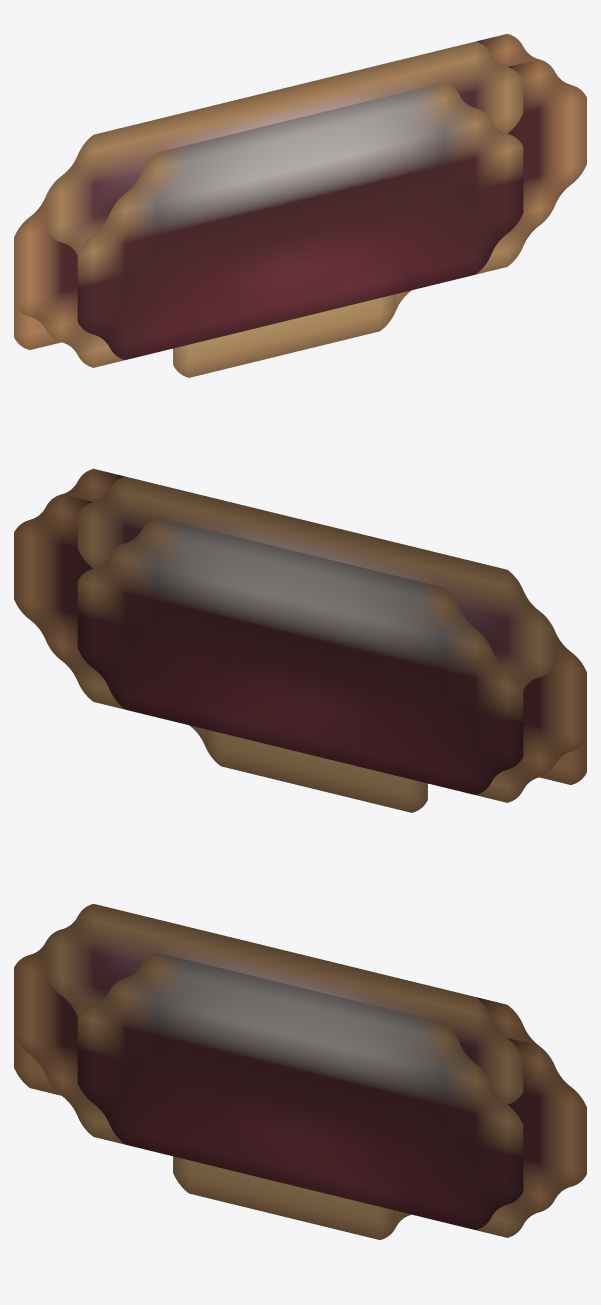
The model's file is Human_Mouths.fbx.
3 views of the same model, one above another, from view 1: azimuth 30°, elevation 25°; view 2: azimuth 150°, elevation 25°; view 3: azimuth 330°, elevation 25° (orthographic).
Parts seen in each view (by area): view 1: Mouth; view 2: Mouth; view 3: Mouth.
Part boxes in pixels (<box>): Mouth: <box>14,33,586,377</box>; Mouth: <box>14,468,586,812</box>; Mouth: <box>14,903,586,1239</box>.
Size of the model in its own units: 0.25 by 0.1111 by 2.09e-07.
1 material, 1 textured.
